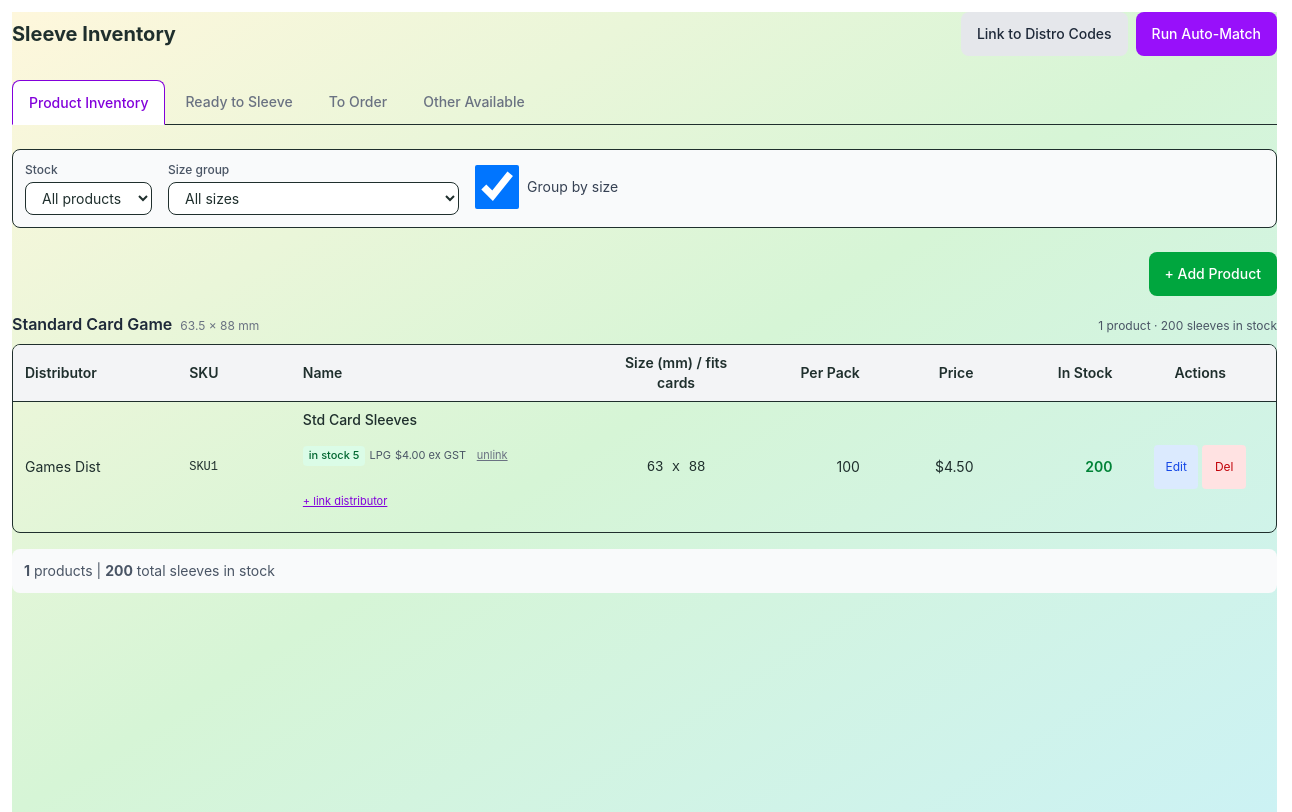
Test case: SleeveInventoryTab › confirmed delete removes the product and reloads
Click the button "Del". click: (1224, 467)
box: [1202, 445, 1246, 489]
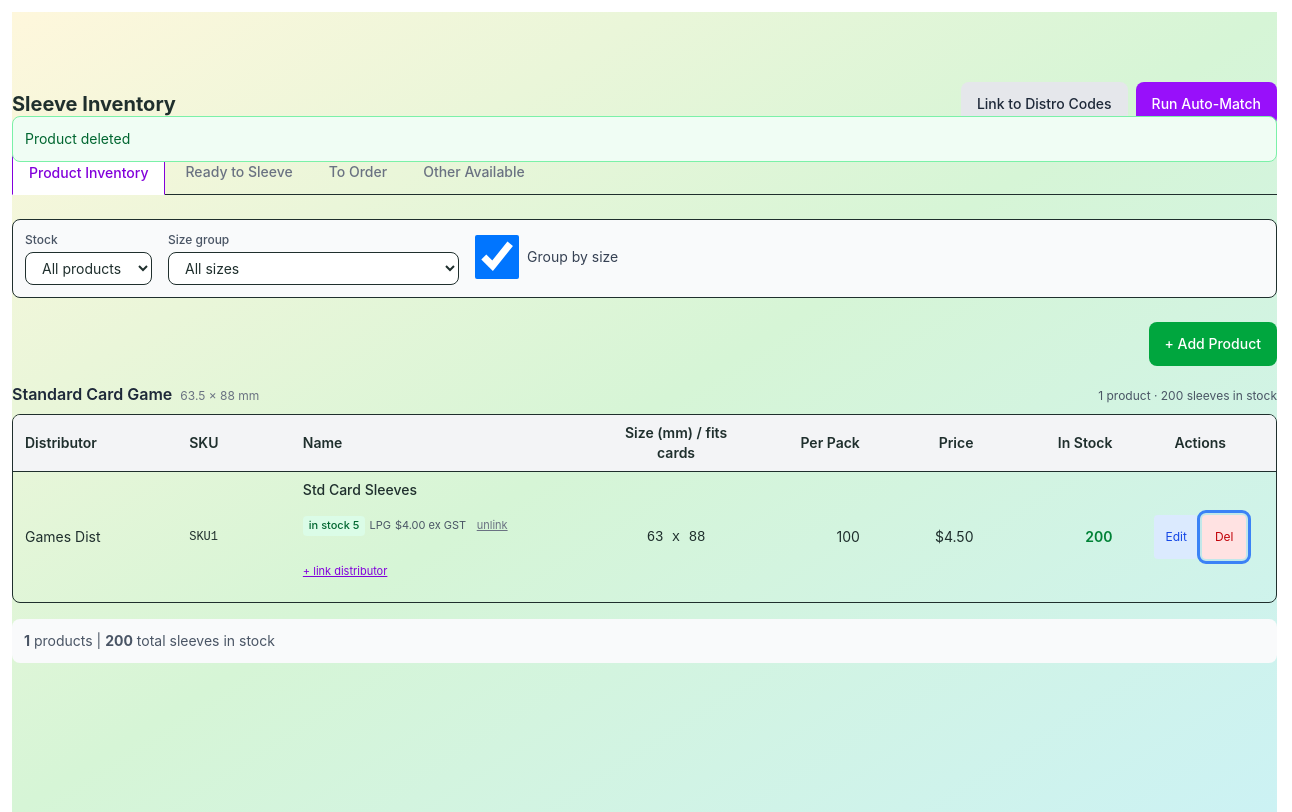
Check: the text "Product deleted" is shown, box [12, 116, 1277, 162]
